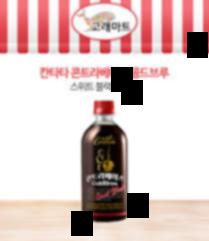contrabass_sweetblack: (80, 97, 131, 223)
